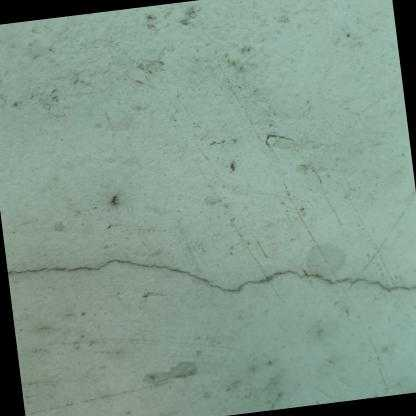crack: (6, 259, 416, 293)
